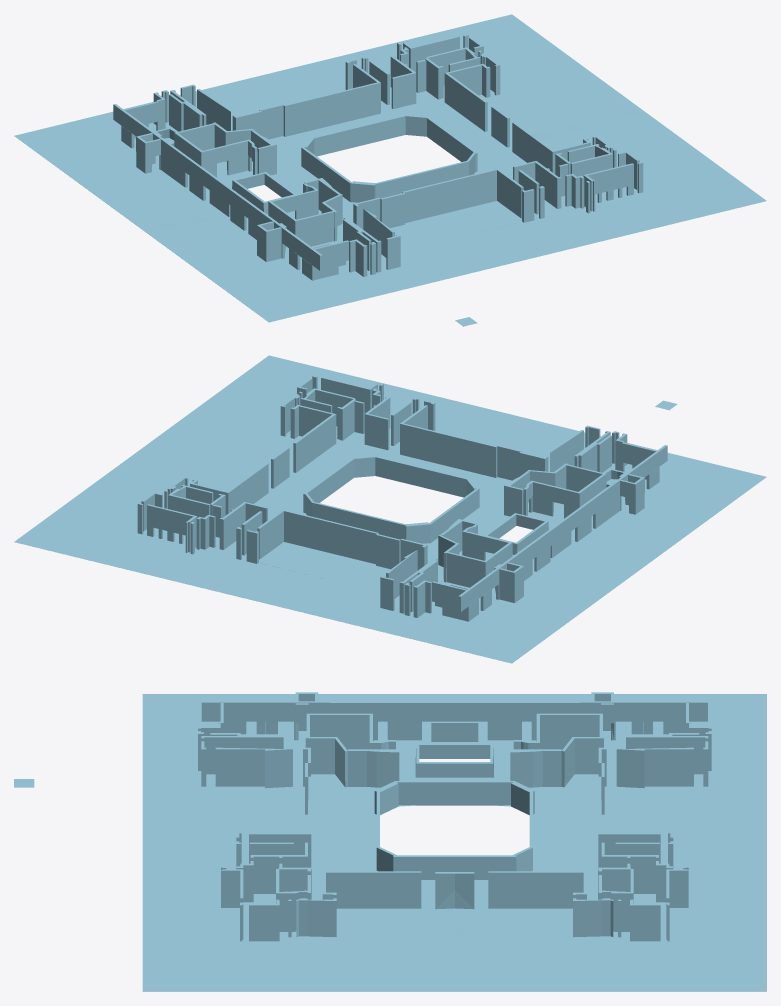
Rendered from floor2.glb.
3 renders of one model, top to bottom at view 1: azimuth 30°, elevation 25°; view 2: azimuth 150°, elevation 25°; view 3: azimuth 270°, elevation 25°, orthographic. The views are drawn at different scales.
Visible parts, largest first — view 1: Plane; view 2: Plane; view 3: Plane.
Part boxes in pixels (bbox=[...]): Plane: bbox=[14, 14, 766, 326]; Plane: bbox=[14, 355, 766, 663]; Plane: bbox=[14, 692, 766, 991].
Size of the model in its own units: 69.07 by 4.19 by 73.87.
